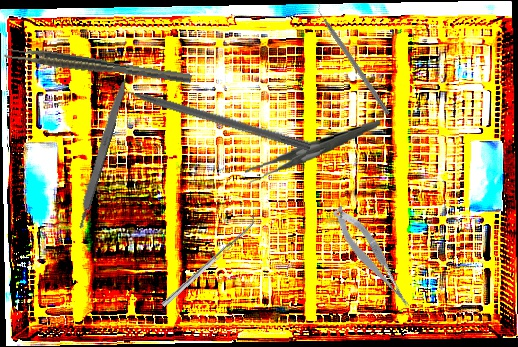Chopper: (312, 0, 397, 116)
Dressing Forceps: (242, 120, 384, 184)
Micro Scissor: (328, 198, 415, 318)
Pusher: (103, 77, 313, 153)
Scalpel Handle: (72, 73, 131, 232)
Spatula Surgical: (157, 213, 261, 308)
Tissue Forceps: (2, 44, 193, 89)
